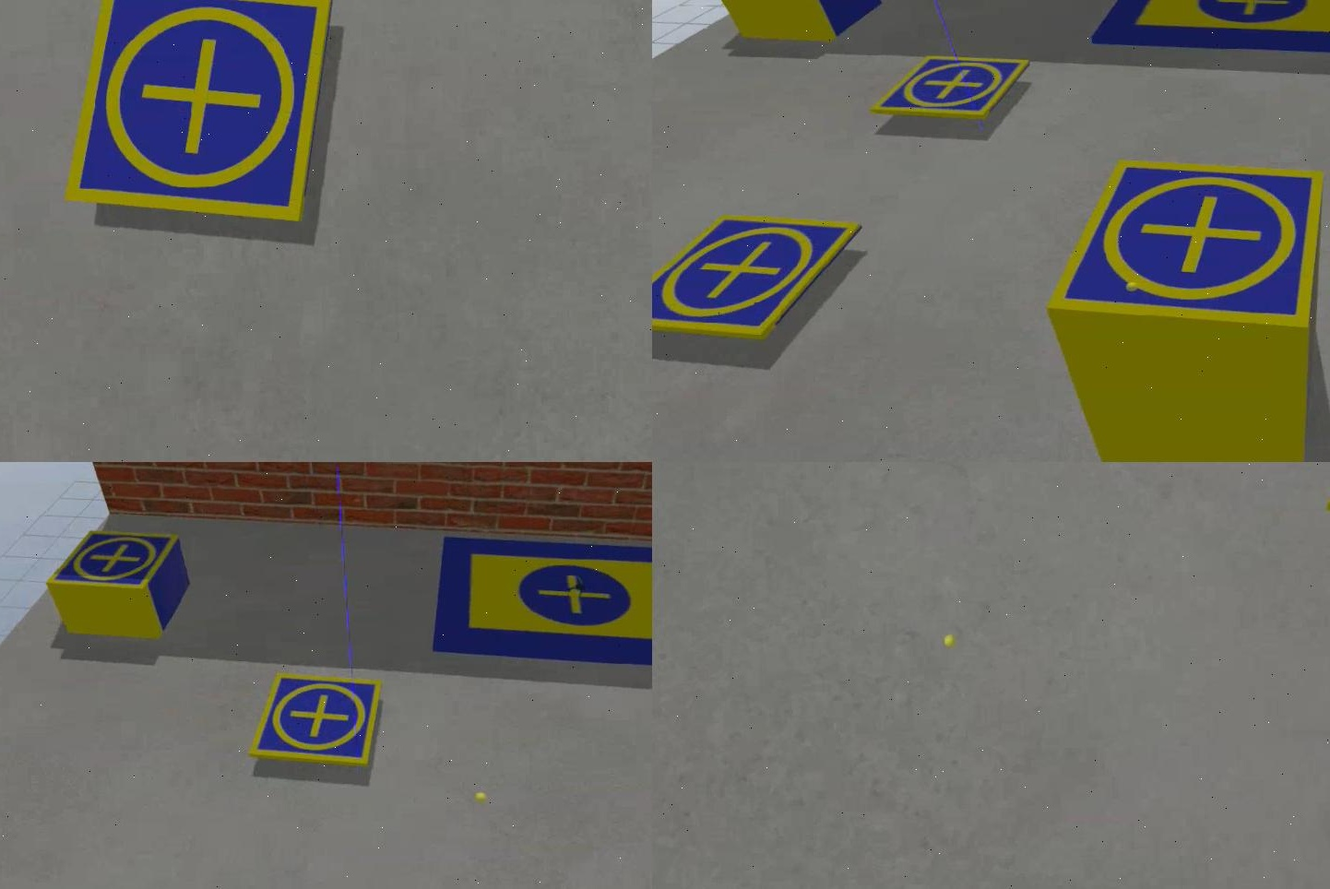large_base: (425, 535, 651, 676), (1082, 1, 1328, 56)
small_base: (60, 1, 338, 231), (1043, 158, 1325, 332), (651, 214, 864, 341), (244, 672, 382, 768), (872, 53, 1027, 123), (44, 531, 179, 597)
